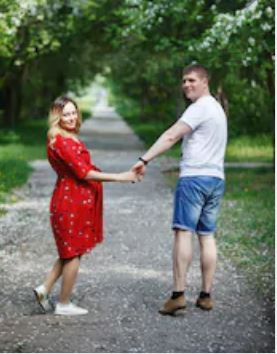Bad: (33, 63, 227, 317)
